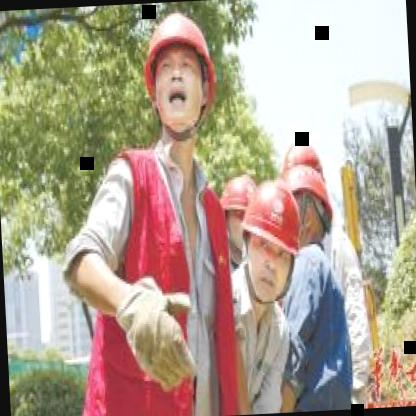helmet: (131, 0, 225, 149), (239, 176, 297, 288), (282, 153, 336, 247), (215, 174, 255, 262)
